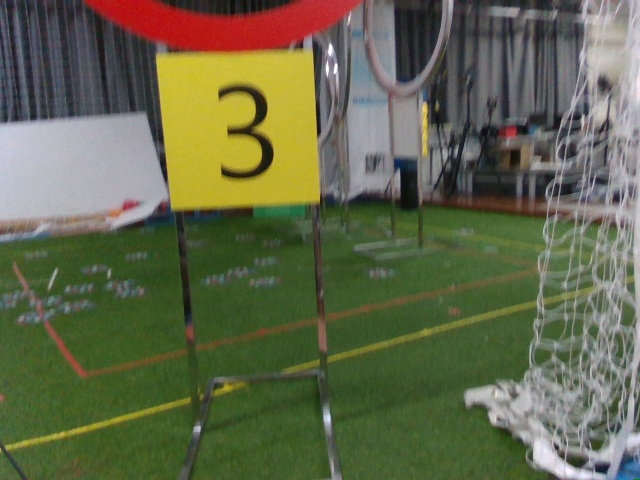target: (161, 54, 308, 202)
